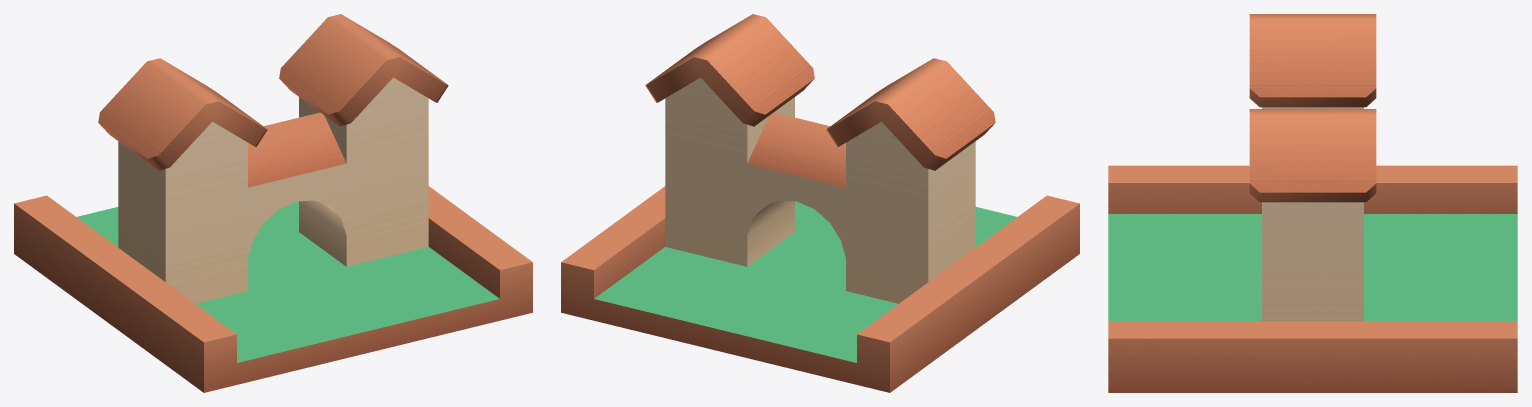
File: castle.glb
3 renders of one model, left to right at view 1: azimuth 30°, elevation 25°; view 2: azimuth 150°, elevation 25°; view 3: azimuth 270°, elevation 25°, orthographic. The views are drawn at different scales.
Visible parts, largest first — view 1: castle; view 2: castle; view 3: castle.
Boxes of the visible parts, x1,y1,x2,y2 form: castle: (14,14,532,392); castle: (561,14,1079,392); castle: (1108,14,1517,392).
Size of the model in its own units: 0.9999 by 0.651 by 0.9999.
1 material, 1 textured.
